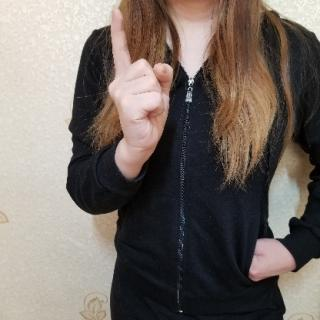RAA: (95, 3, 184, 161)
